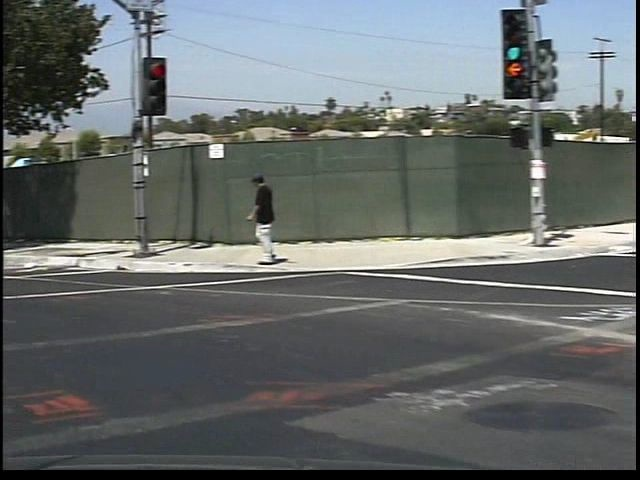person: (233, 171, 283, 284)
